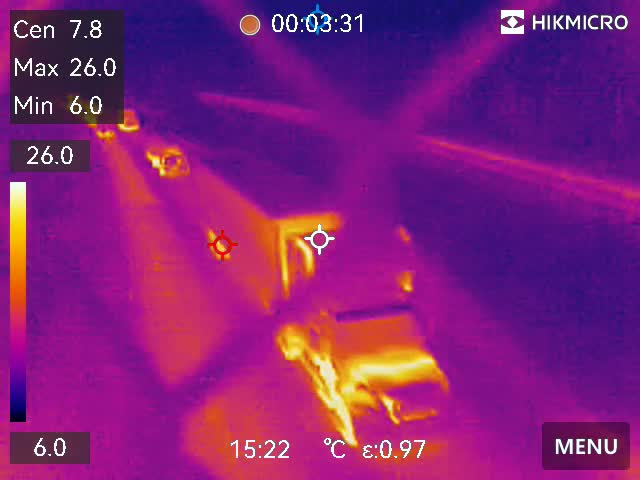heavyTruck: (200, 154, 452, 440)
